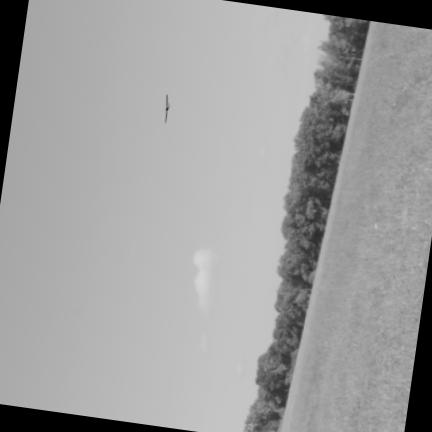Shahed: (165, 94, 169, 122)
